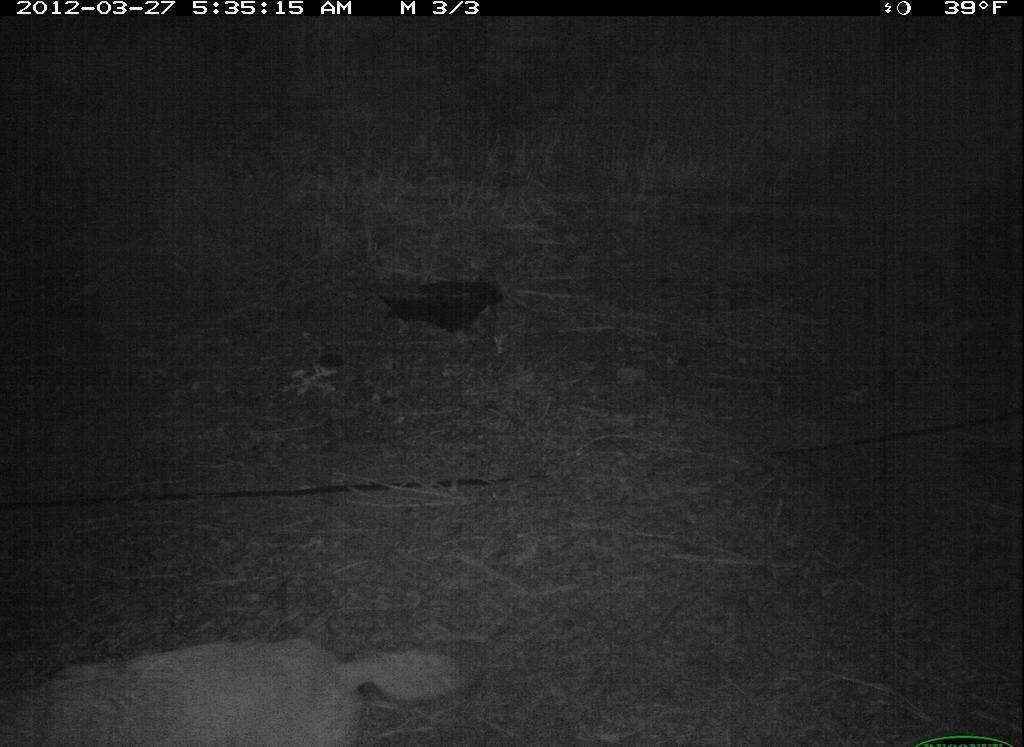coyote: (9, 632, 500, 747)
